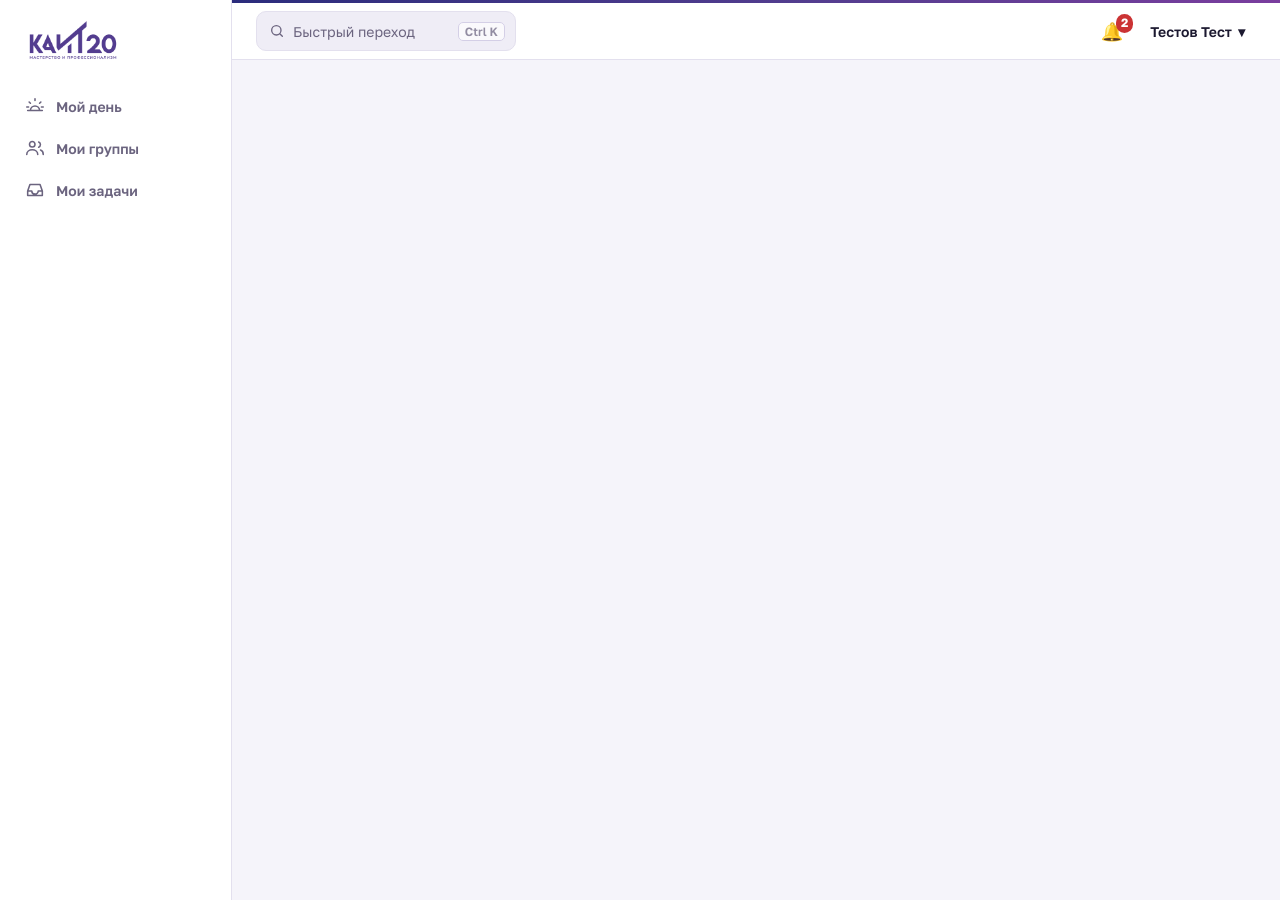
Test: Уведомления (колокольчик) › «Прочитать все» сбрасывает счётчик
Step 1. Click the button named "Уведомления" → (1112, 31), box top-left (1097, 18), bottom-right (1127, 44)
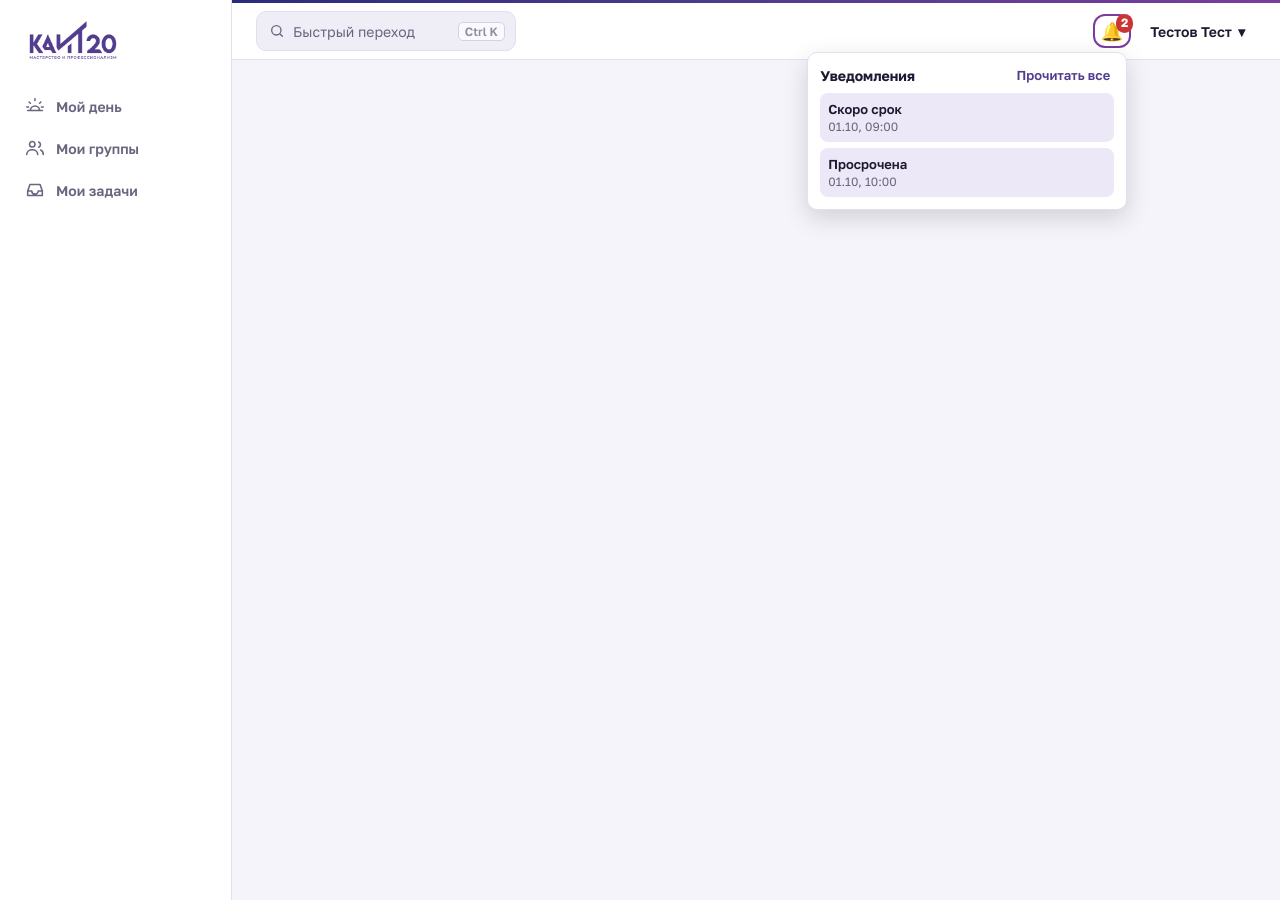
Step 2. Click the button "Прочитать все" → (1063, 75), box top-left (1012, 65), bottom-right (1114, 85)
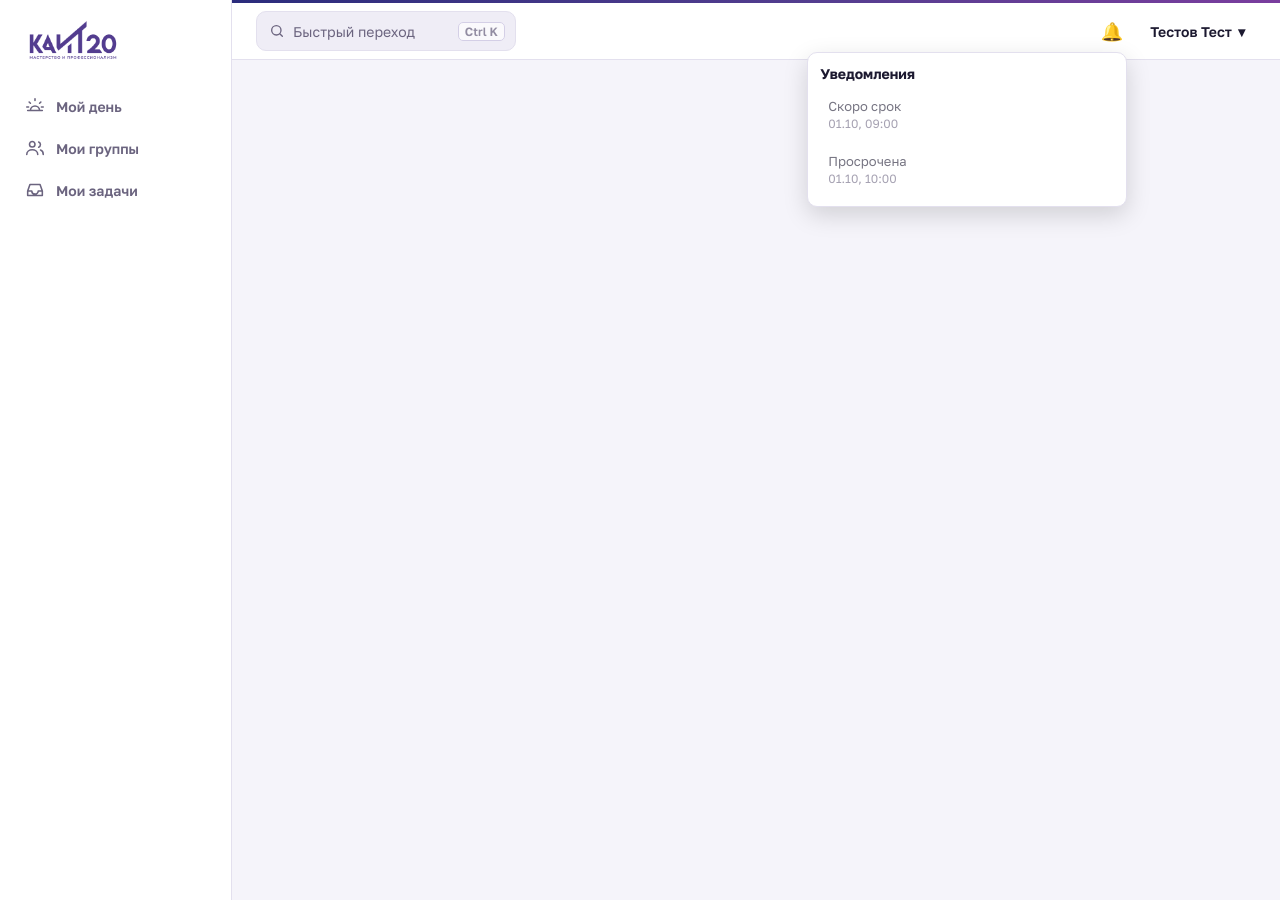
Result: the button "Прочитать все" is gone
